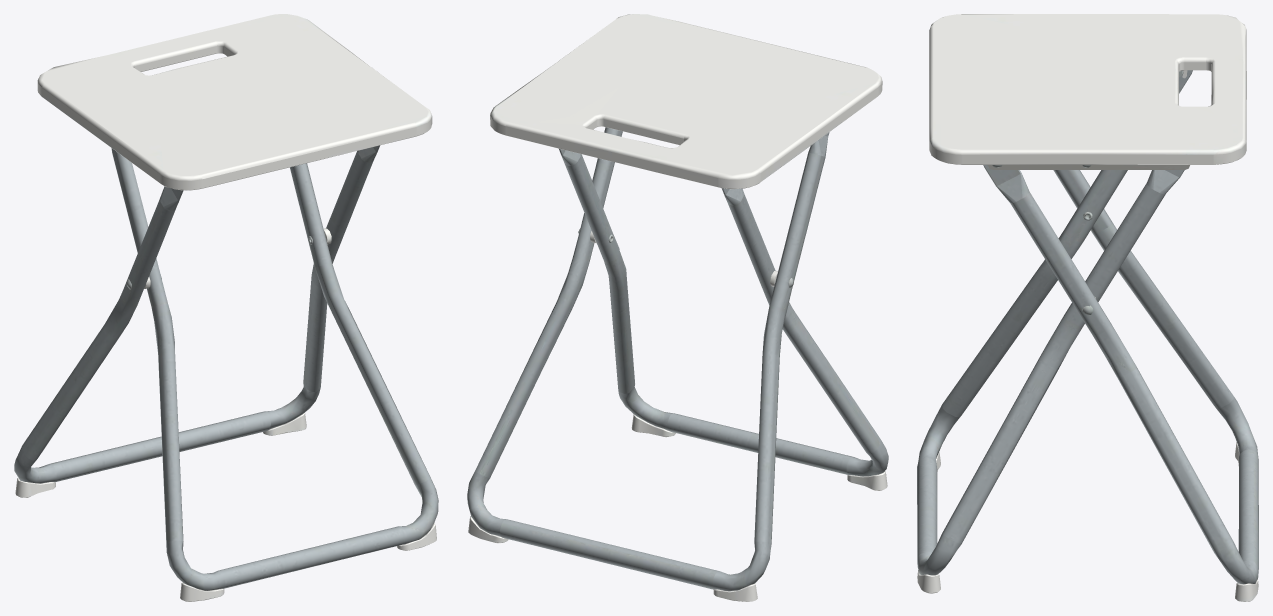
File: 12 - GUNDE - 折疊椅凳, 白色 IKEA 線上購物.glb
3 renders of one model, left to right at view 1: azimuth 30°, elevation 25°; view 2: azimuth 150°, elevation 25°; view 3: azimuth 270°, elevation 25°, orthographic. The views are drawn at different scales.
Parts seen in each view (by area): view 1: ASY_ART_90570406_S01_NV01; view 2: ASY_ART_90570406_S01_NV01; view 3: ASY_ART_90570406_S01_NV01.
Boxes of the visible parts, <box> form: ASY_ART_90570406_S01_NV01: <box>14,14,438,601</box>; ASY_ART_90570406_S01_NV01: <box>467,14,888,601</box>; ASY_ART_90570406_S01_NV01: <box>917,14,1258,601</box>.
Size of the model in its own units: 0.3354 by 0.4505 by 0.3127.
1 material, 1 textured.
